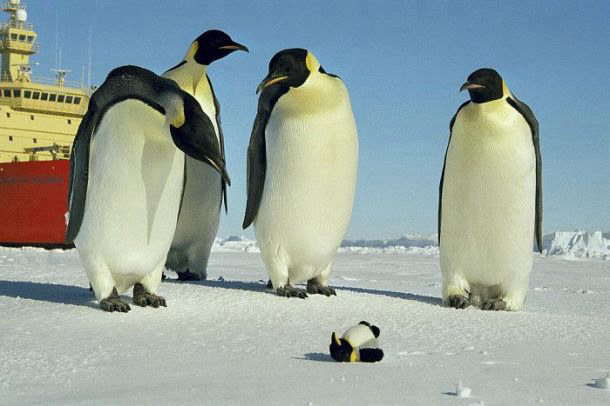penguin: (69, 68, 230, 312), (252, 49, 359, 305), (439, 67, 548, 318)
